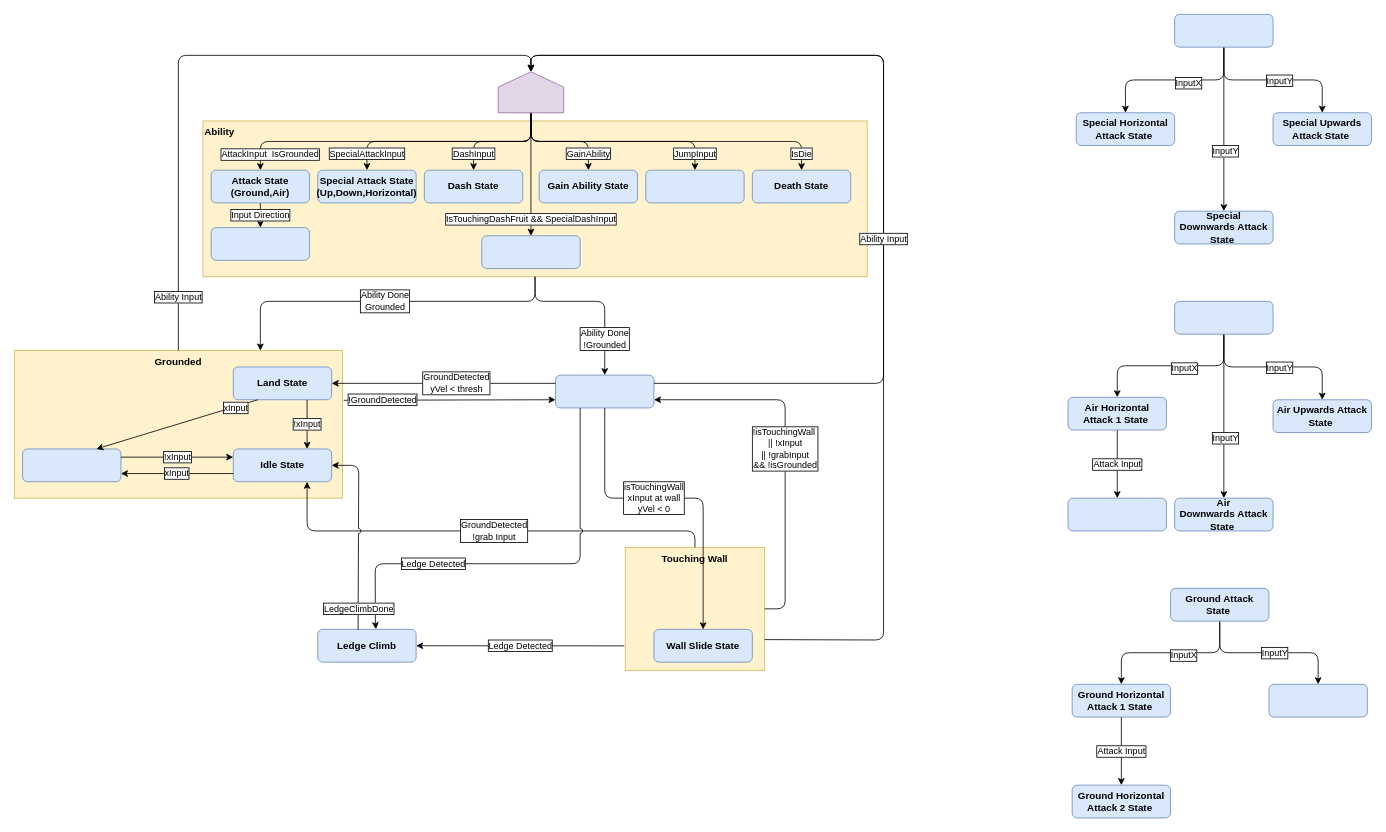
Image size: 1386x832. Some labels were removed from this diagram. Here are the shapes that lost their labels. From the top down, the centre of each, then its label:
At pixel 1223 30: "Special Attack State".
At pixel 530 92: "Input Handler".
At pixel 694 186: "Jump State".
At pixel 260 243: "Attack State (Up,Down,Horizontal)".
At pixel 530 252: "Special Dash State".
At pixel 1223 317: "Air Attack State".
At pixel 604 391: "In Air State".
At pixel 71 465: "Move State".
At pixel 1116 514: "Air Horizontal Attack 2 State".
At pixel 1317 700: "Ground Upwards Attack State".
